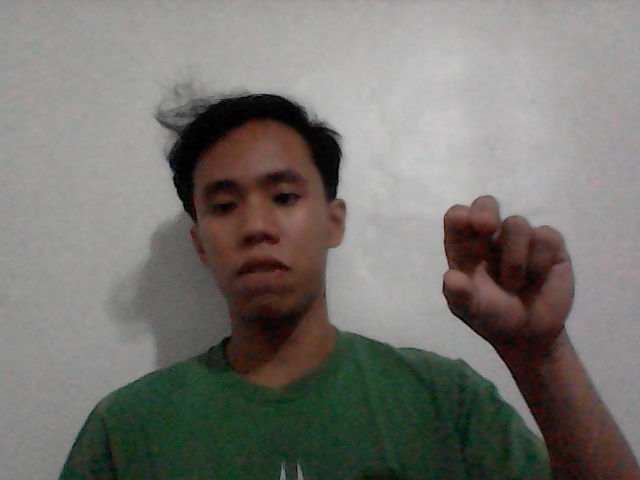No: (409, 174, 607, 365)
